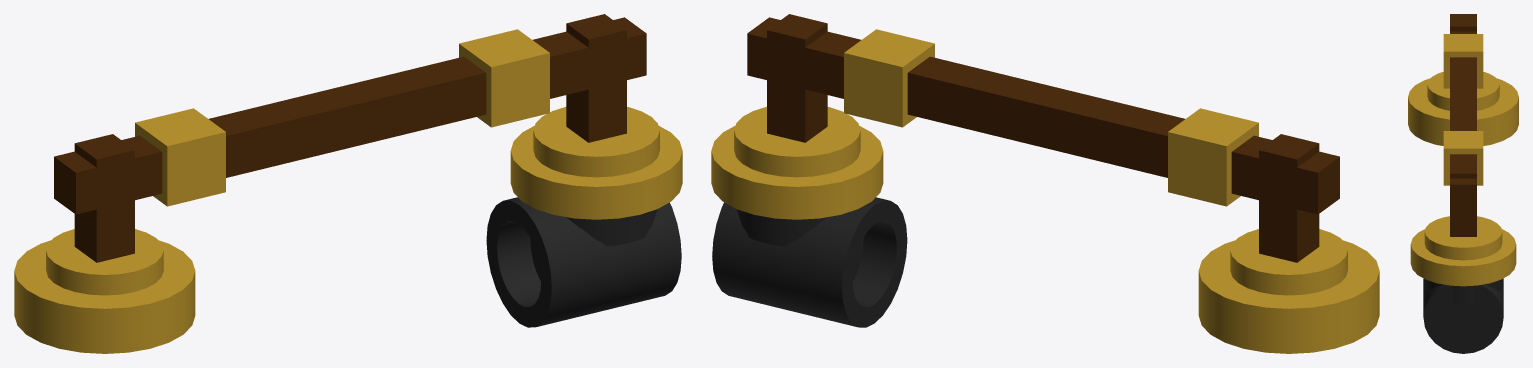
The model's file is Telefoon hoorn.fbx.
3 views of the same model, side by side, from view 1: azimuth 30°, elevation 25°; view 2: azimuth 150°, elevation 25°; view 3: azimuth 270°, elevation 25° (orthographic). The views are drawn at different scales.
Parts seen in each view (by area): view 1: Model; view 2: Model; view 3: Model.
Part boxes in pixels (bbox=[...]): Model: bbox=[14, 14, 682, 353]; Model: bbox=[711, 14, 1379, 353]; Model: bbox=[1408, 14, 1518, 353].
Bounding box in the file's own units: 165 × 67.98 × 40.
